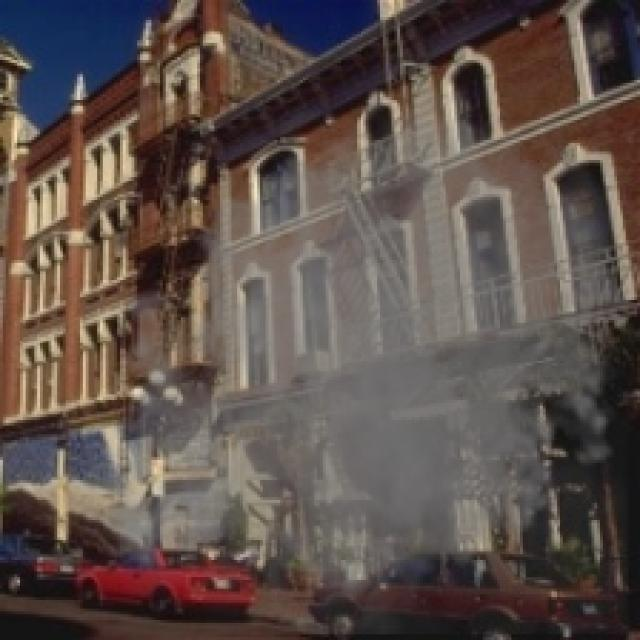Smoke: (92, 72, 638, 638)
